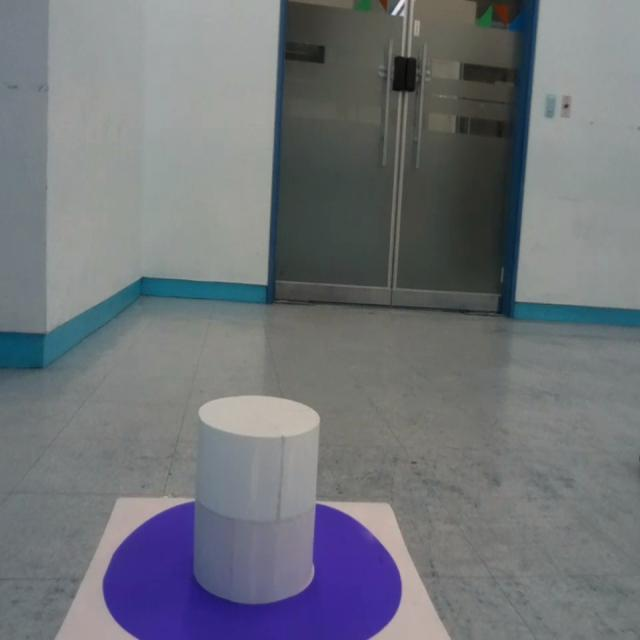cylinder: (192, 395, 320, 604)
